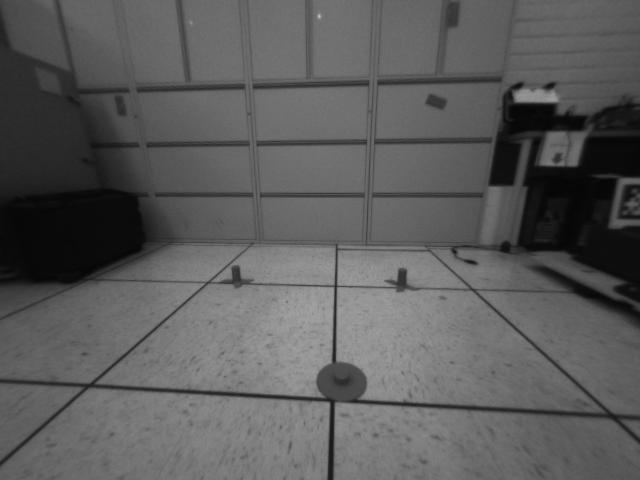X: (384, 266, 419, 293), (218, 265, 254, 290)
